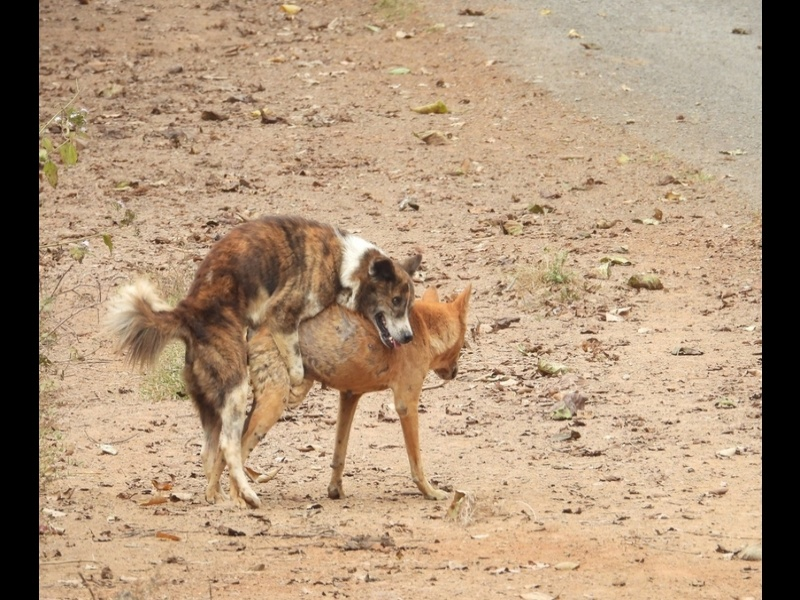dog: (117, 223, 421, 519), (204, 278, 476, 517)
